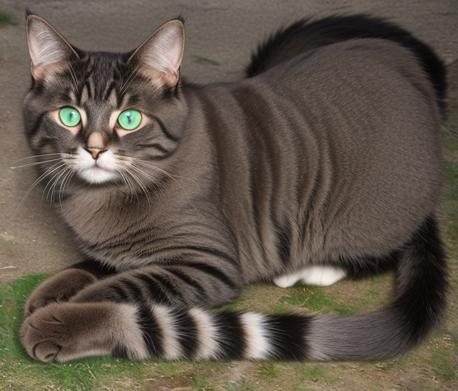cat: (14, 6, 448, 362)
